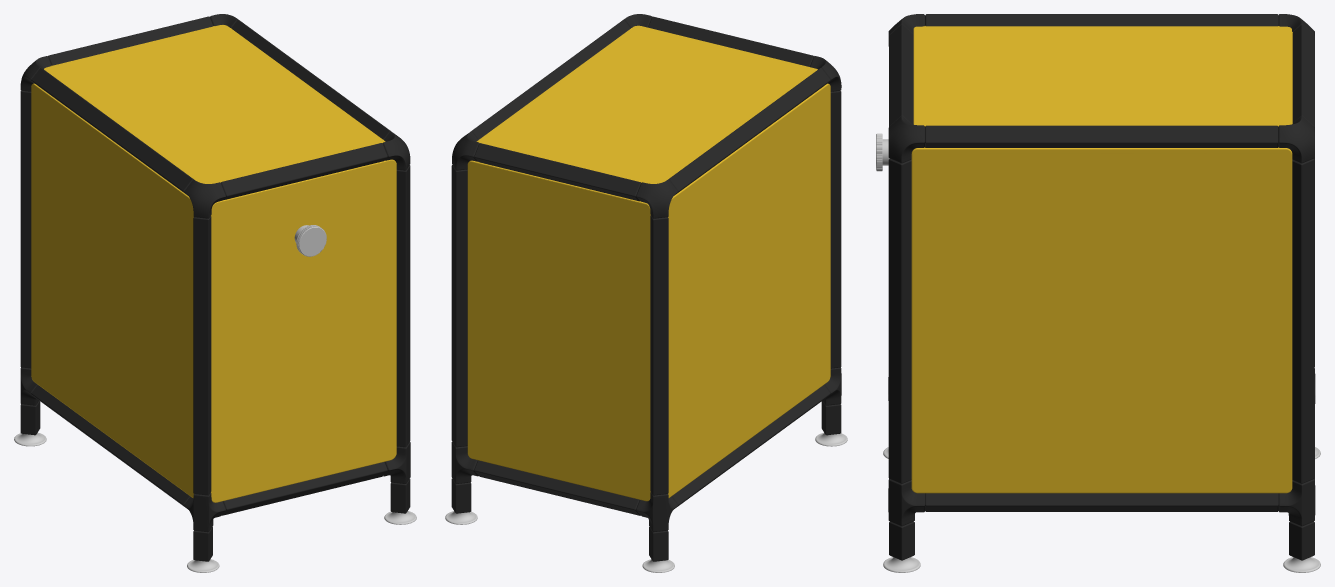
The picture shows the model from 3 angles, left to right: view 1: azimuth 30°, elevation 25°; view 2: azimuth 150°, elevation 25°; view 3: azimuth 270°, elevation 25°; orthographic projection. The views are drawn at different scales.
Visible parts, largest first — view 1: 229x374x374; view 2: 229x374x374; view 3: 229x374x374.
Part boxes in pixels (x1=…): 229x374x374: x1=14, y1=14, x2=416, y2=572; 229x374x374: x1=445, y1=14, x2=847, y2=572; 229x374x374: x1=876, y1=14, x2=1320, y2=572.
Bounding box in the file's own units: 0.3189 × 0.5133 × 0.4707.
